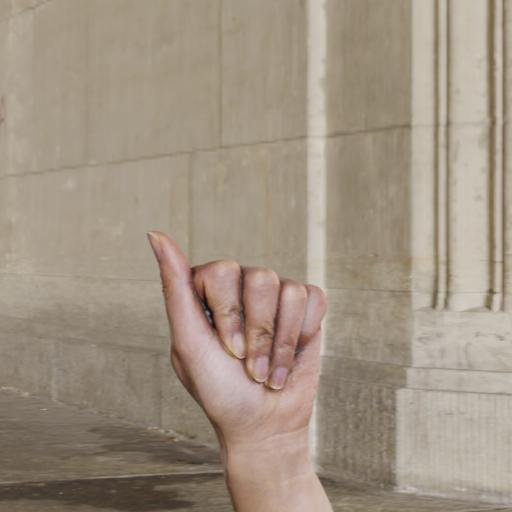A: (142, 227, 331, 436)
